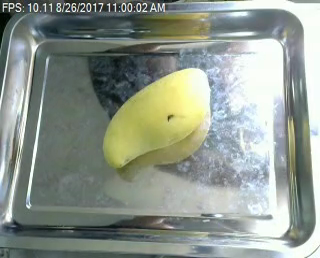Mango: (100, 67, 210, 172)
